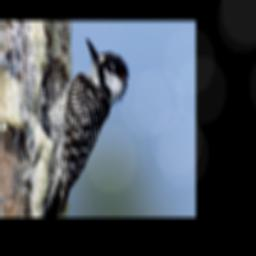Woodpecker: (18, 32, 130, 213)
